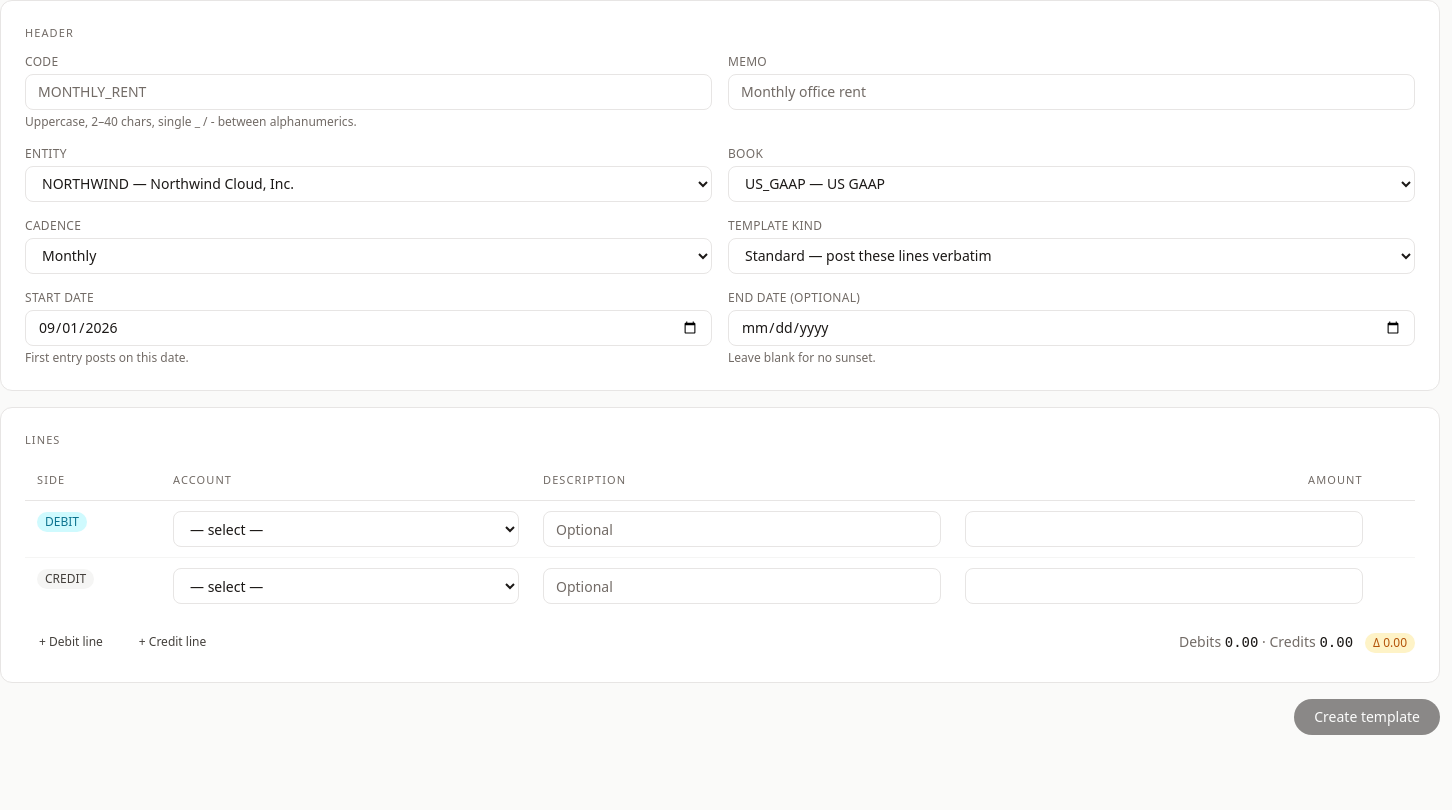
new recurring template — ALLOCATION mode › STANDARD mode still gates on balanced debits and credits
Select "6000 — Overhead pool" in the 5th dropdown at (346, 529), box [173,511,519,547]
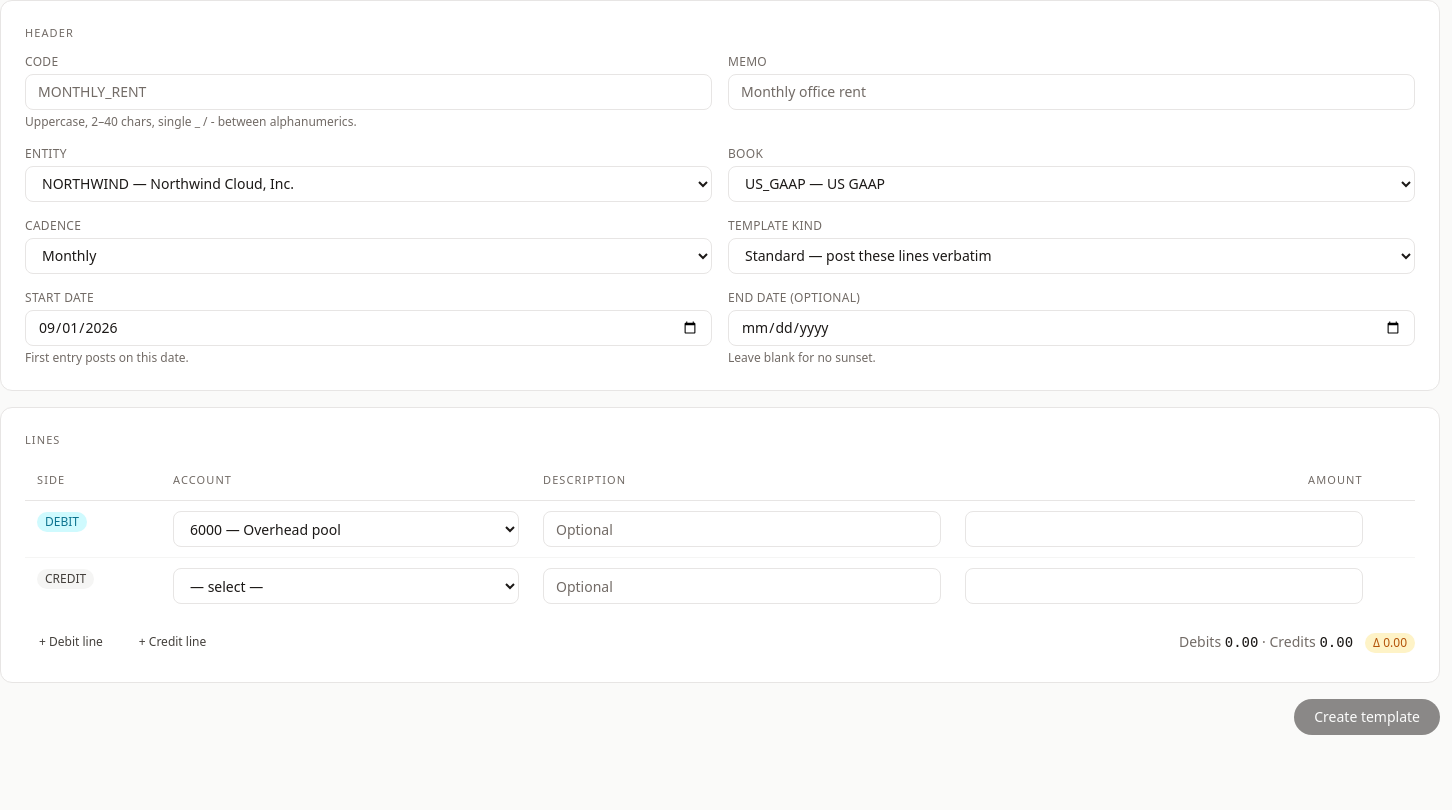
Type "100" into the 1st number field.
click(1164, 529); type("100")  # box [965,511,1363,547]
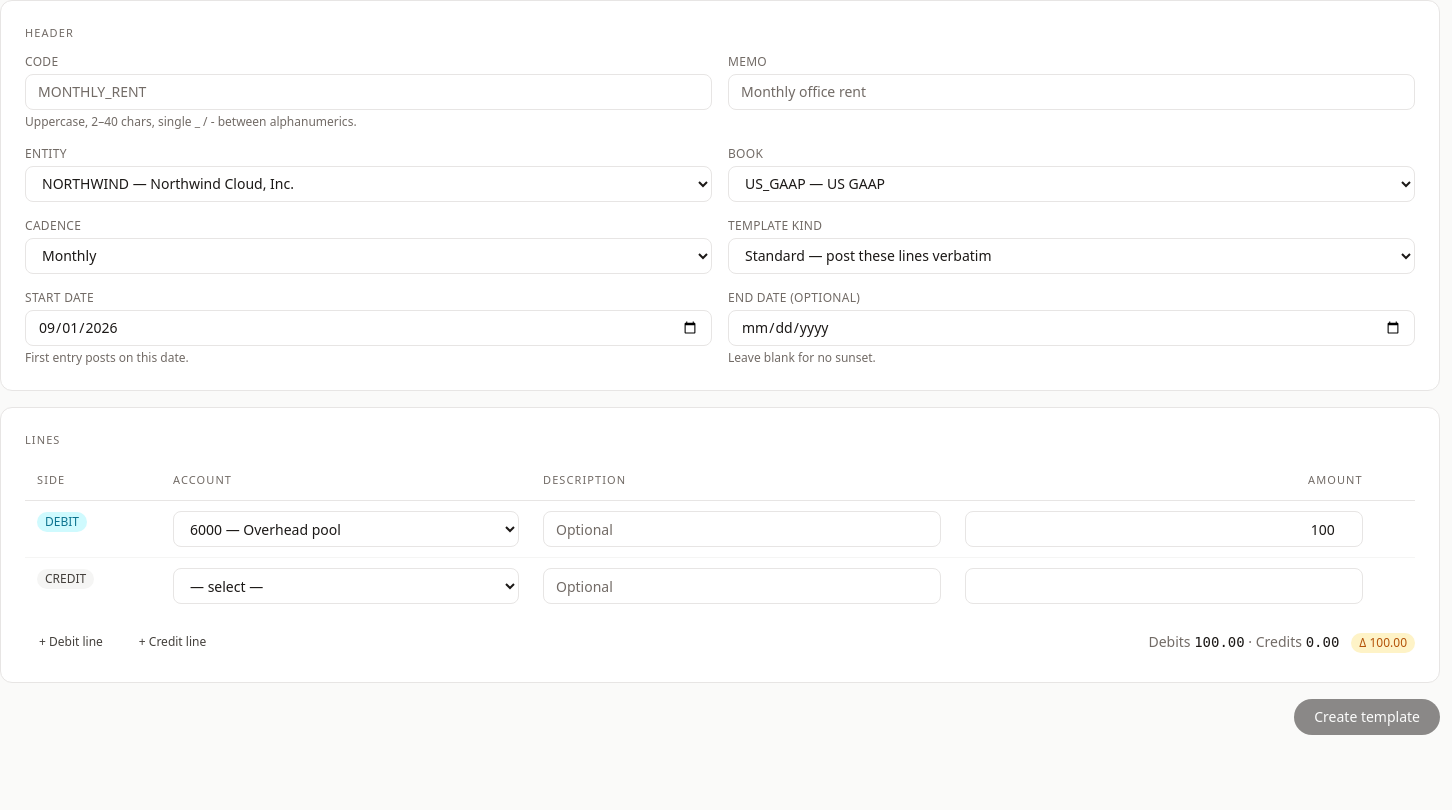
Select "7000 — Dept 1" in the 6th dropdown at (346, 586), box [173,568,519,604]
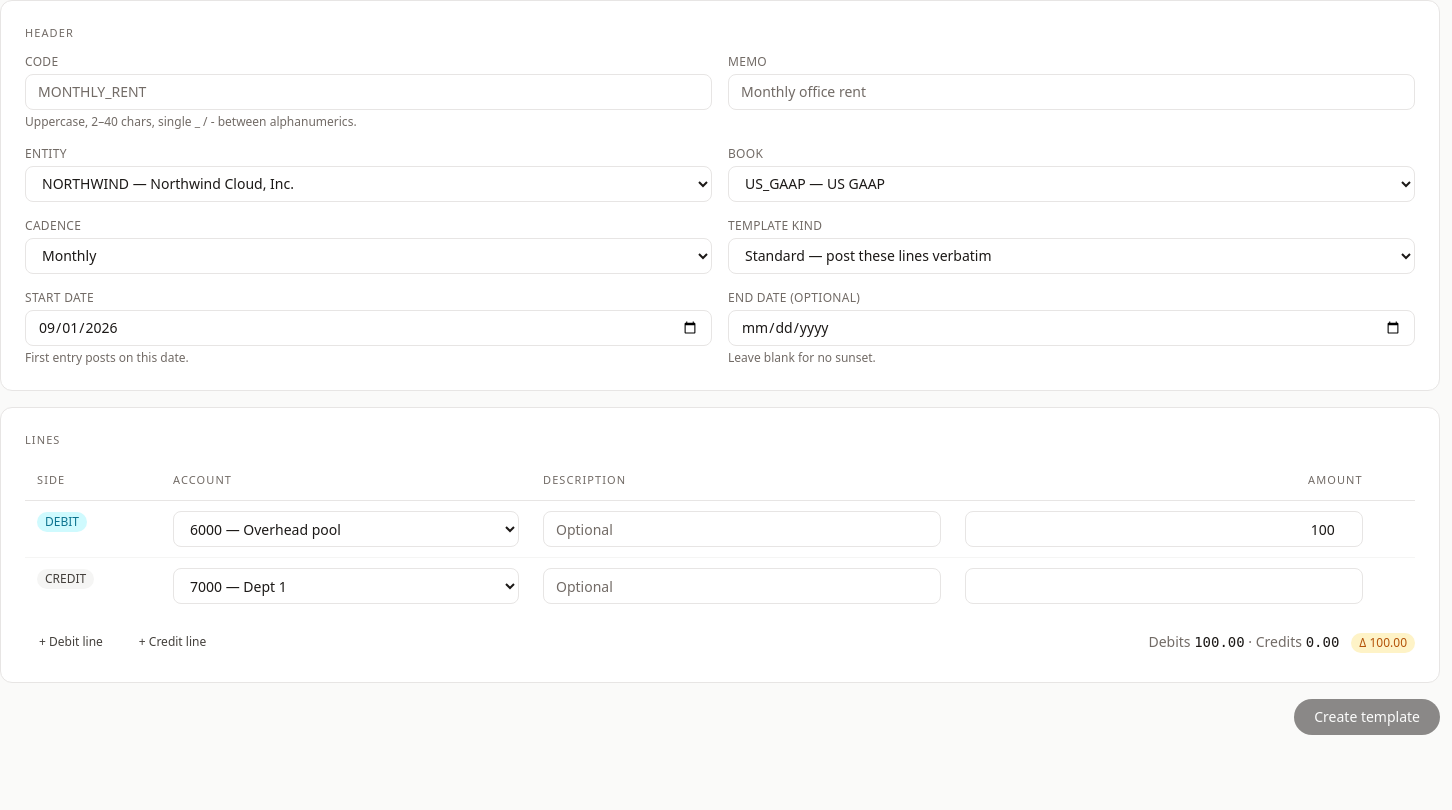
Expected: the button "Create template" is disabled, [1294,699,1440,735]
Type "100" into the 2nd number field.
click(1164, 586); type("100")  # box [965,568,1363,604]
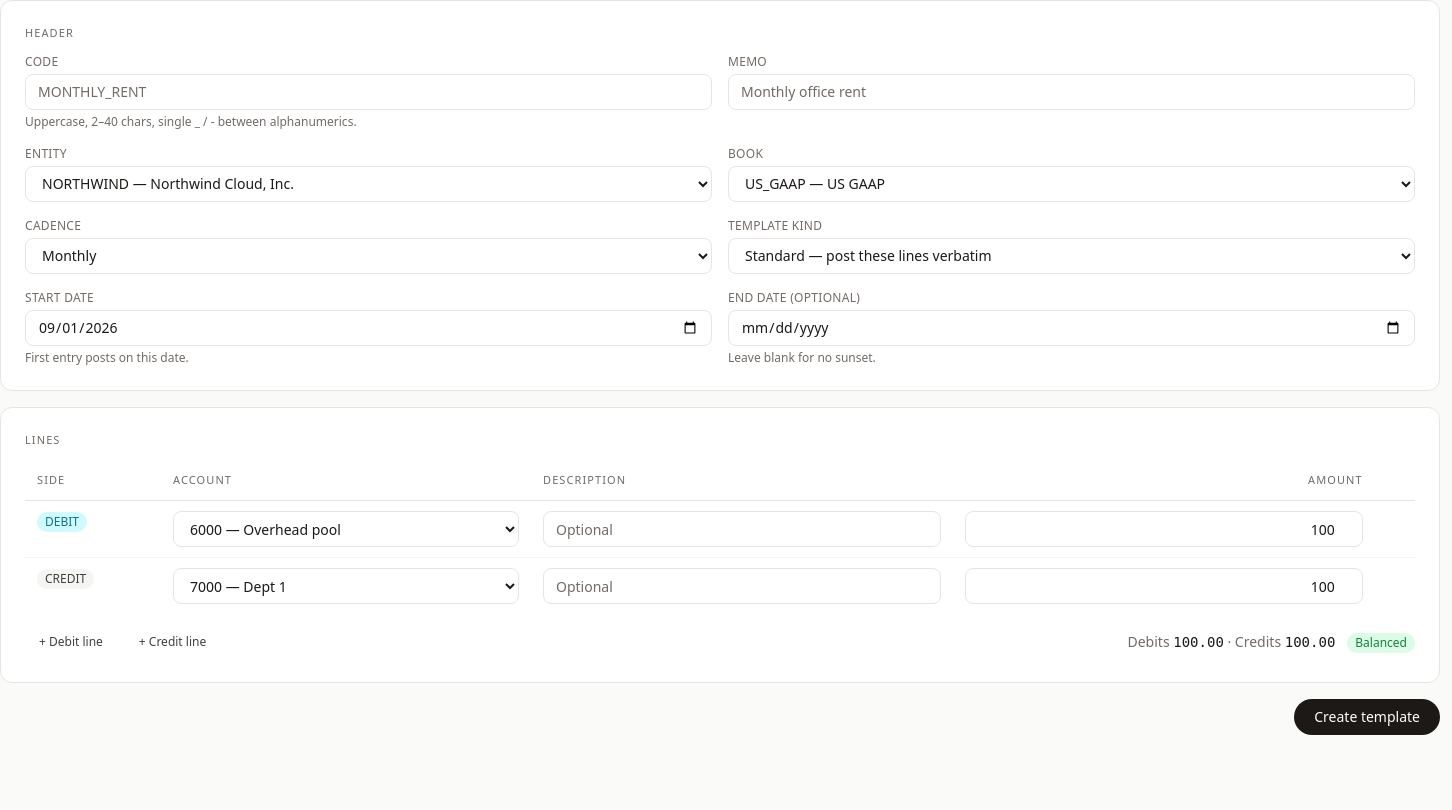
Result: the button "Create template" is enabled at [1294,699,1440,735]
